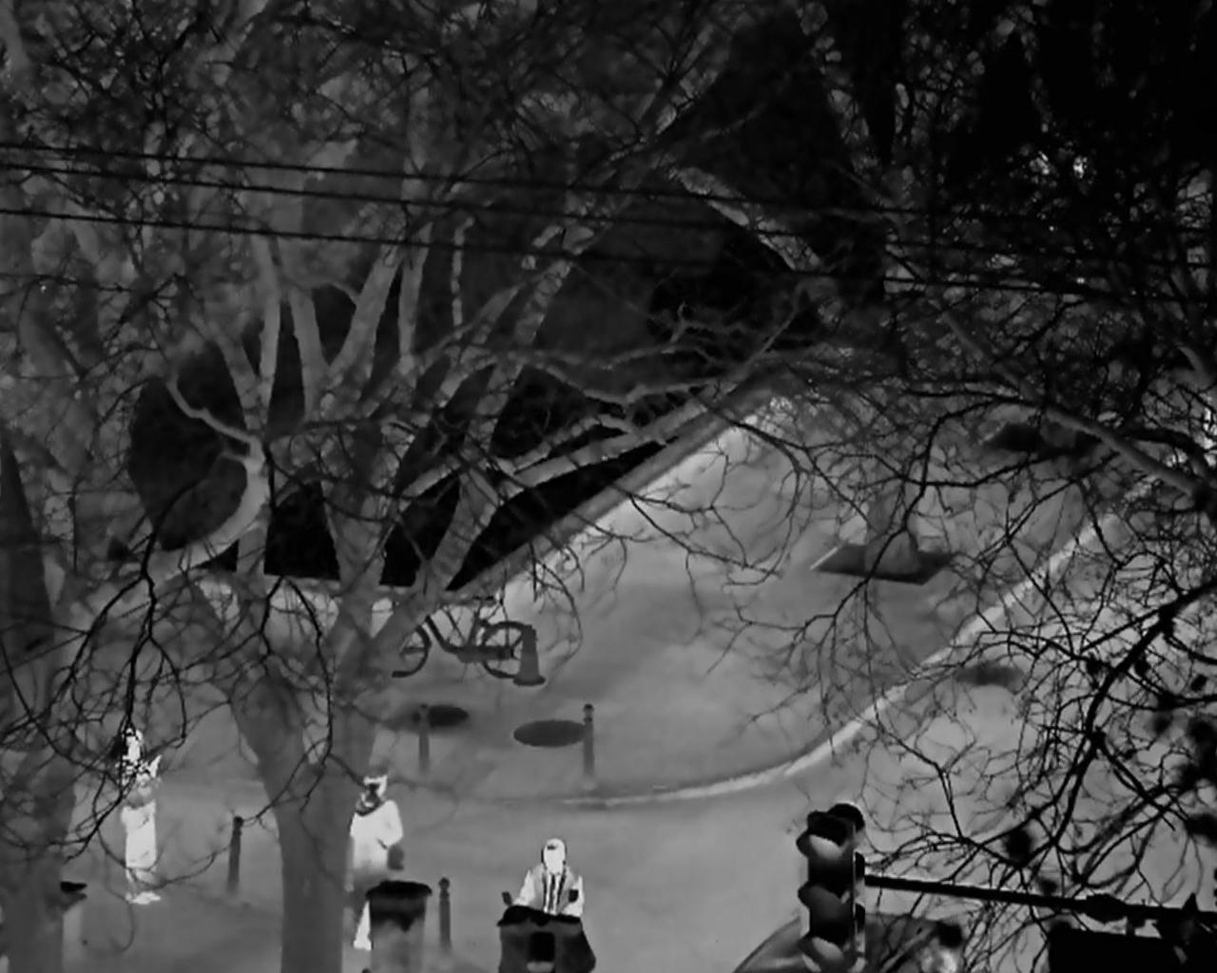person: (351, 760, 404, 955), (114, 724, 160, 903), (508, 838, 587, 927)
